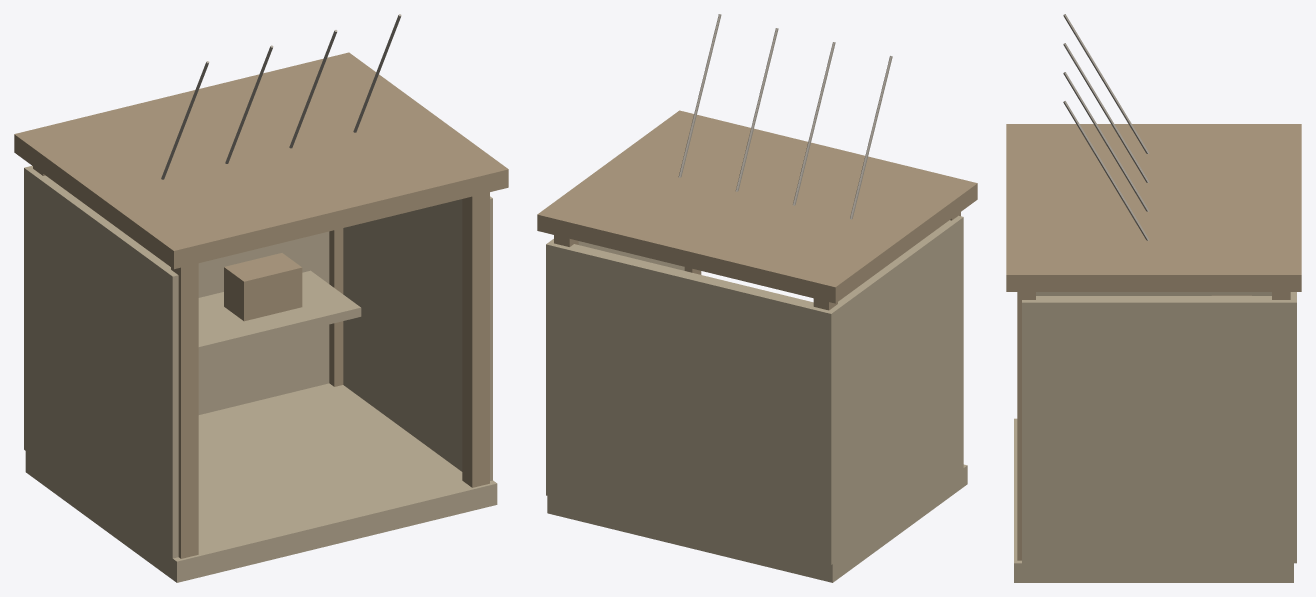
File: trench-line-1917-signal-post-dugout-b3b0a602__24078.glb
3 views of the same model, side by side, from view 1: azimuth 30°, elevation 25°; view 2: azimuth 150°, elevation 25°; view 3: azimuth 270°, elevation 25° (orthographic). The views are drawn at different scales.
Visible parts, largest first — view 1: signal-post-dugout; view 2: signal-post-dugout; view 3: signal-post-dugout.
Boxes of the visible parts, bbox=[...] form: signal-post-dugout: bbox=[14, 14, 508, 582]; signal-post-dugout: bbox=[537, 14, 977, 582]; signal-post-dugout: bbox=[1006, 14, 1301, 582].
Bounding box in the file's own units: 2.3 × 3.2 × 1.9.
